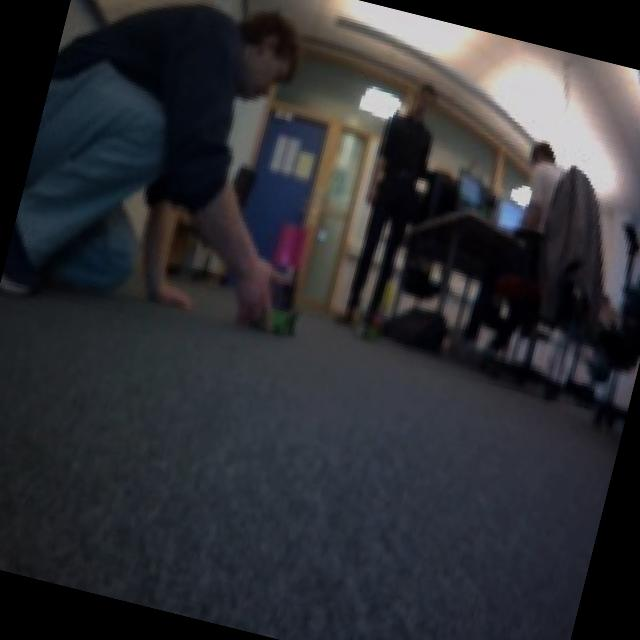robot: (258, 281, 306, 340), (351, 303, 390, 345)
